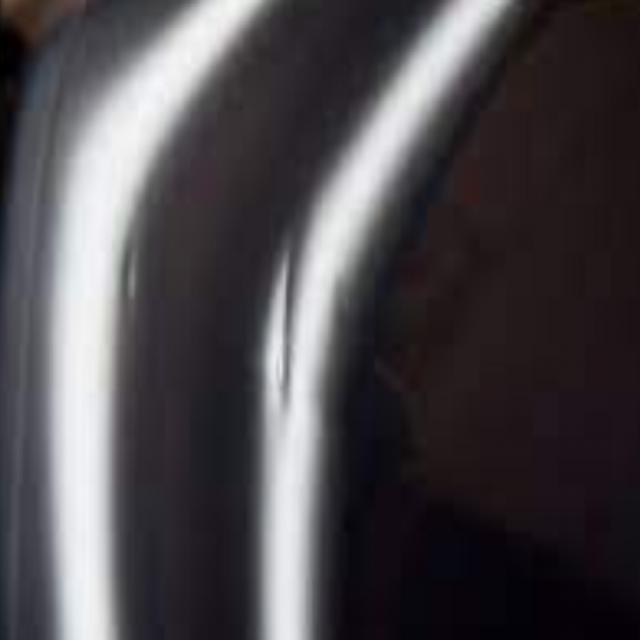dents: (262, 200, 309, 438), (103, 230, 161, 354)
